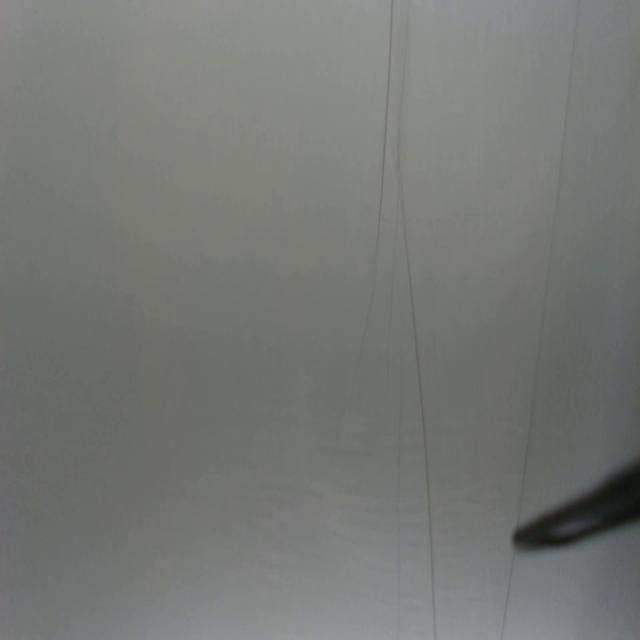crease: (522, 0, 581, 481), (400, 168, 438, 636), (374, 0, 394, 251), (500, 550, 515, 636)
